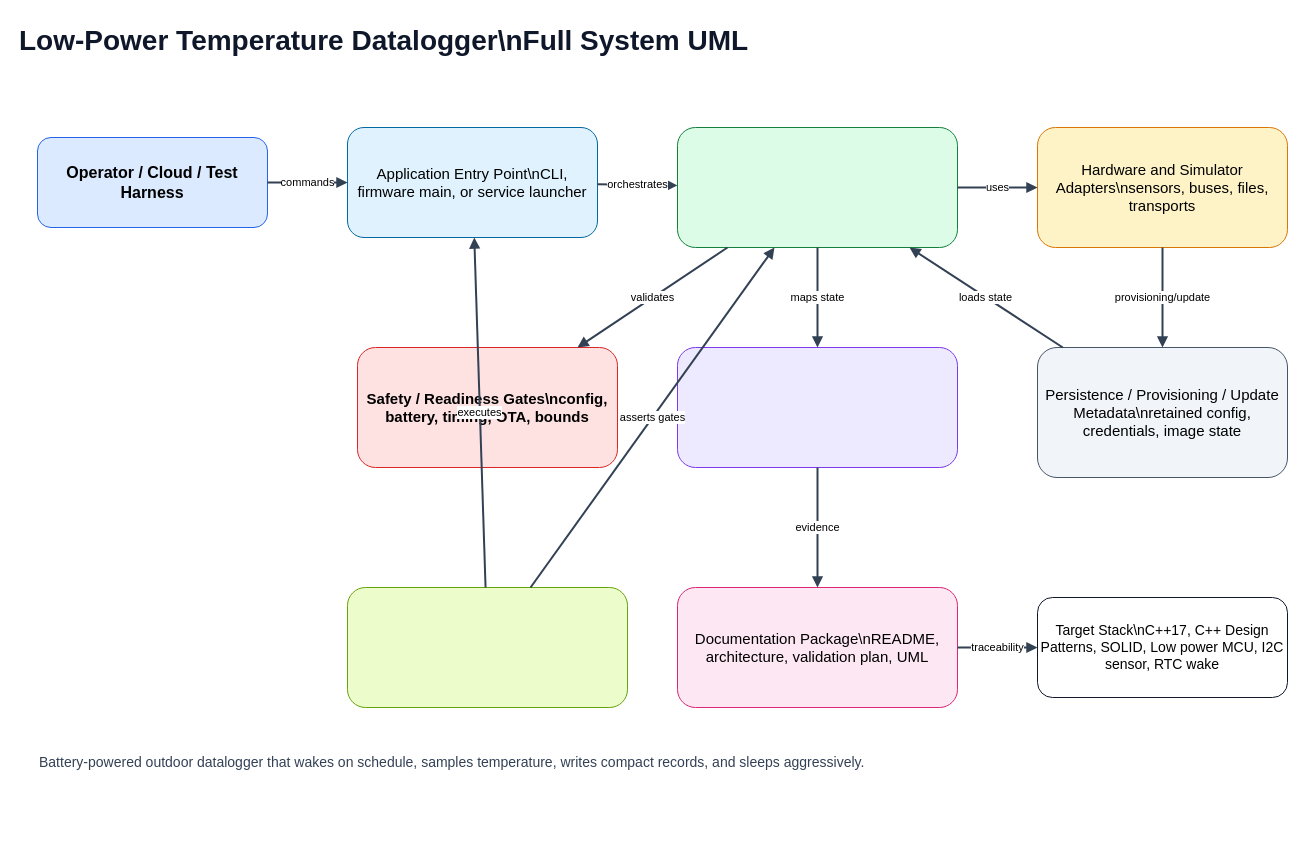
Some shapes in this 1305 by 844 pixel diagram are drawn without their labels. Here are the shapes that lost their labels. From the top down, the centre of each, then its label:
the point at 817,187: Domain / Control Core\nstate model, policy, orchestration
the point at 817,407: Telemetry and Evidence\nJSON, reports, logs, measurements
the point at 487,647: Tests and CI\nCMake, CTest, smoke runs, expected failures
